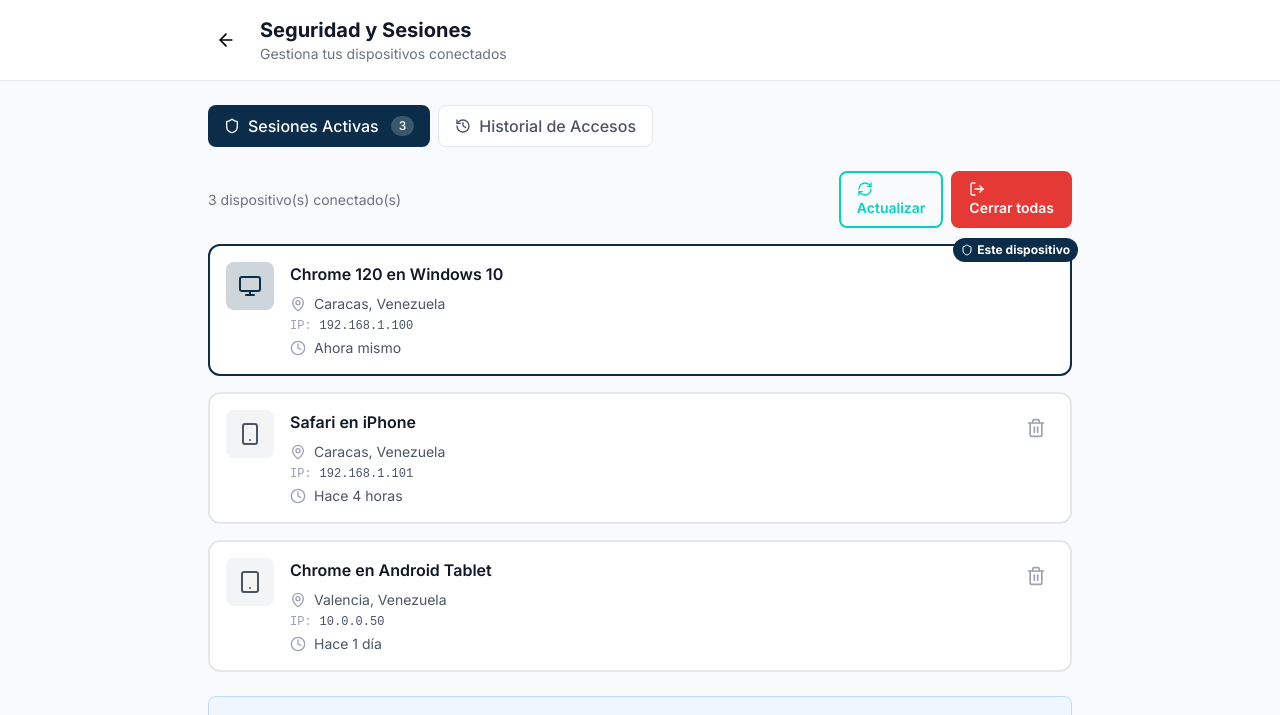
it: Gestión de Sesiones - E2E › Cerrar todas las sesiones (mocked) › debe mostrar modal de confirmación
The width and height of the screenshot is (1280, 715).
Click the button "Cerrar todas": (1012, 200) [951,171,1072,228]
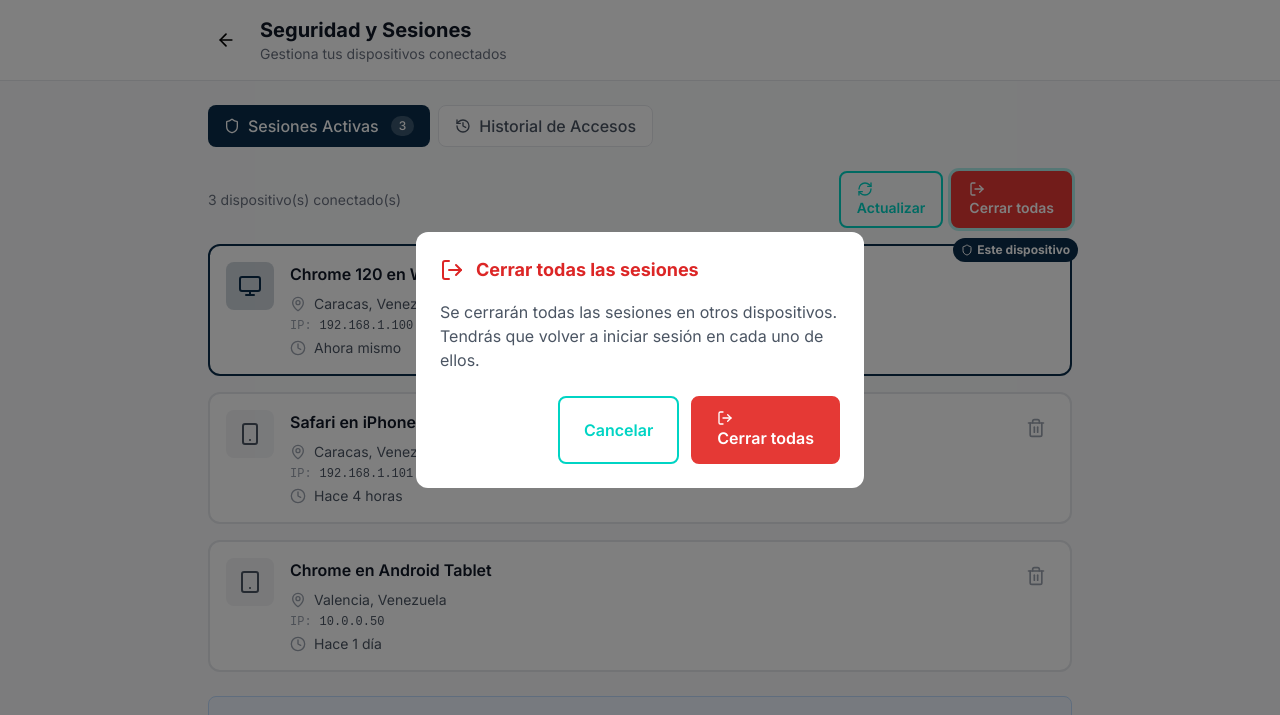
Expected: the heading "Cerrar todas las sesiones" is shown, [476,256,699,284]
Expected: the text "Se cerrarán todas las sesiones en otros dispositivos" is shown, [440,302,837,370]
